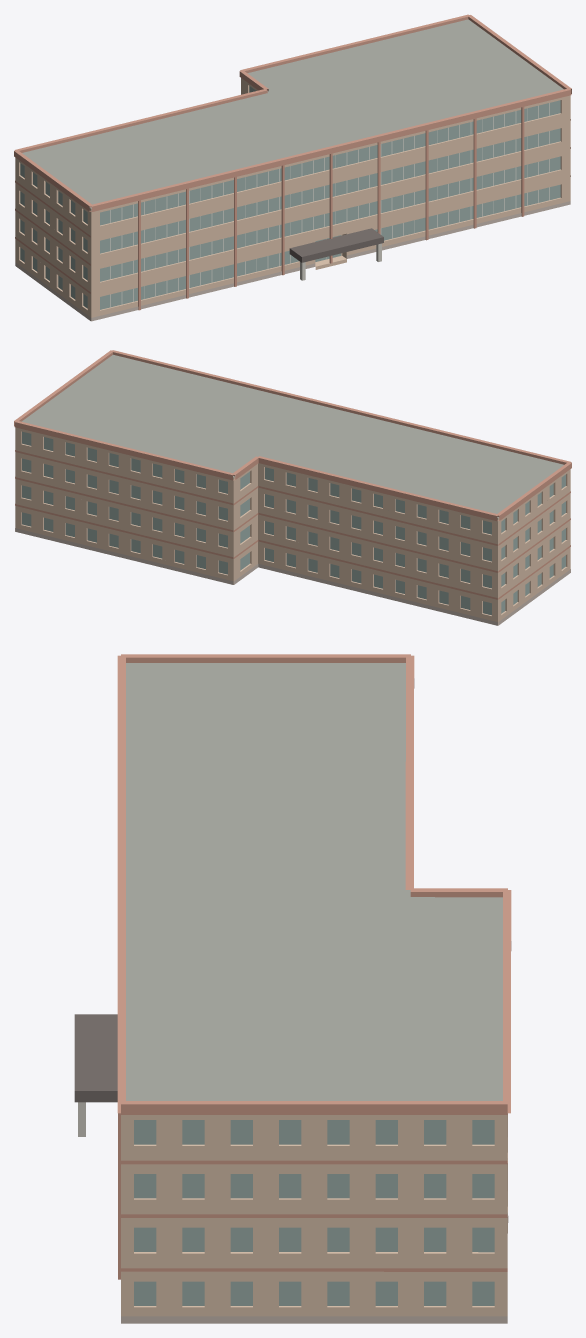
3 renders of one model, top to bottom at view 1: azimuth 30°, elevation 25°; view 2: azimuth 150°, elevation 25°; view 3: azimuth 270°, elevation 25°, orthographic. The views are drawn at different scales.
Parts seen in each view (by area): view 1: b115951806__roof, b115951806__wall, b115951806__glass, b115951806__trim, b115951806__frame, b115951806__base, b115951806__canopy; view 2: b115951806__wall, b115951806__roof, b115951806__glass, b115951806__trim, b115951806__base; view 3: b115951806__roof, b115951806__wall, b115951806__trim, b115951806__glass, b115951806__canopy, b115951806__base.
Boxes of the visible parts, x1,y1,x2,y2 form: b115951806__roof: (22,19,563,208); b115951806__wall: (15,78,570,320); b115951806__glass: (20,86,560,309); b115951806__trim: (14,14,571,310); b115951806__frame: (110,103,549,307); b115951806__base: (15,201,570,321); b115951806__canopy: (289,228,383,262); b115951806__wall: (15,427,570,625); b115951806__roof: (22,354,563,517); b115951806__glass: (22,431,565,615); b115951806__trim: (14,350,571,599); b115951806__base: (15,528,570,625); b115951806__roof: (126,663,507,1216); b115951806__wall: (121,1113,507,1316); b115951806__trim: (117,654,511,1279); b115951806__glass: (134,1120,494,1305); b115951806__canopy: (74,1014,117,1102); b115951806__base: (121,1216,508,1323).
Size of the model in its own units: 64.59 by 15.15 by 26.46.
